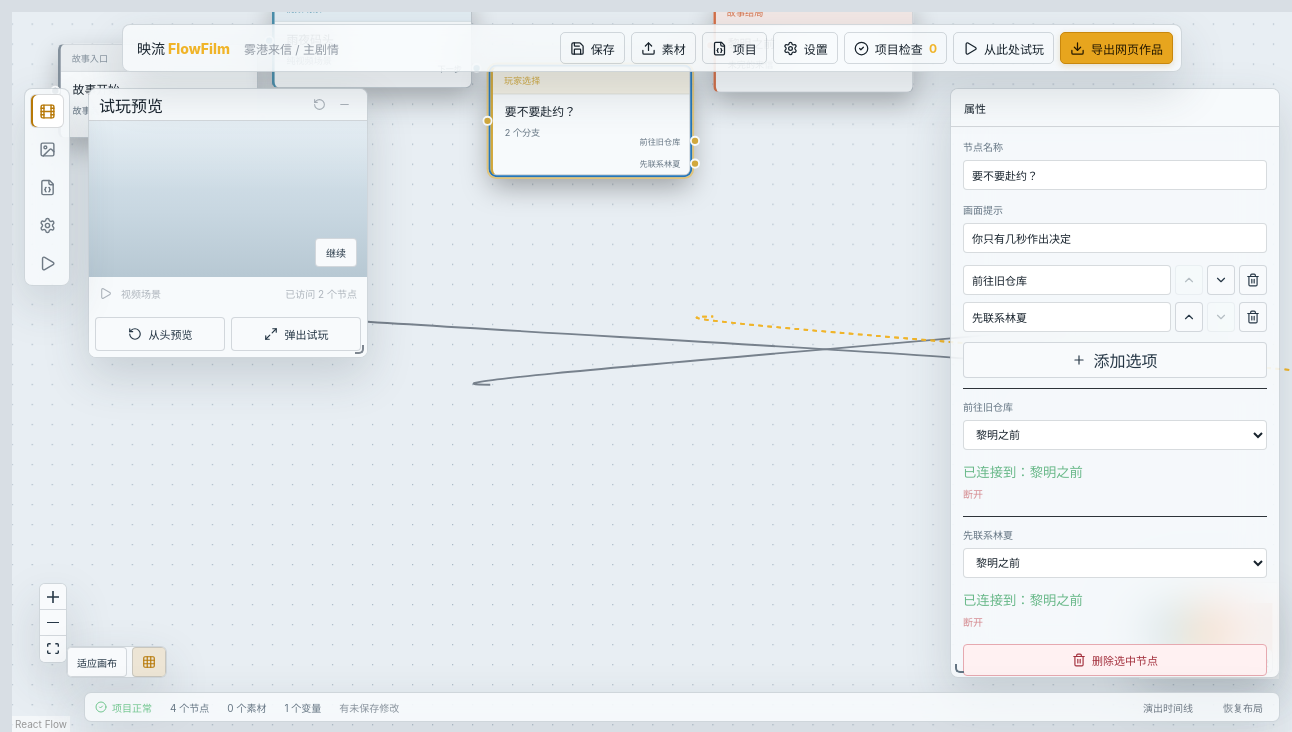
it: editor workbench › previews a branch choice
Click the button with aria-label "继续剧情". click: (336, 253)
box: [315, 238, 357, 267]
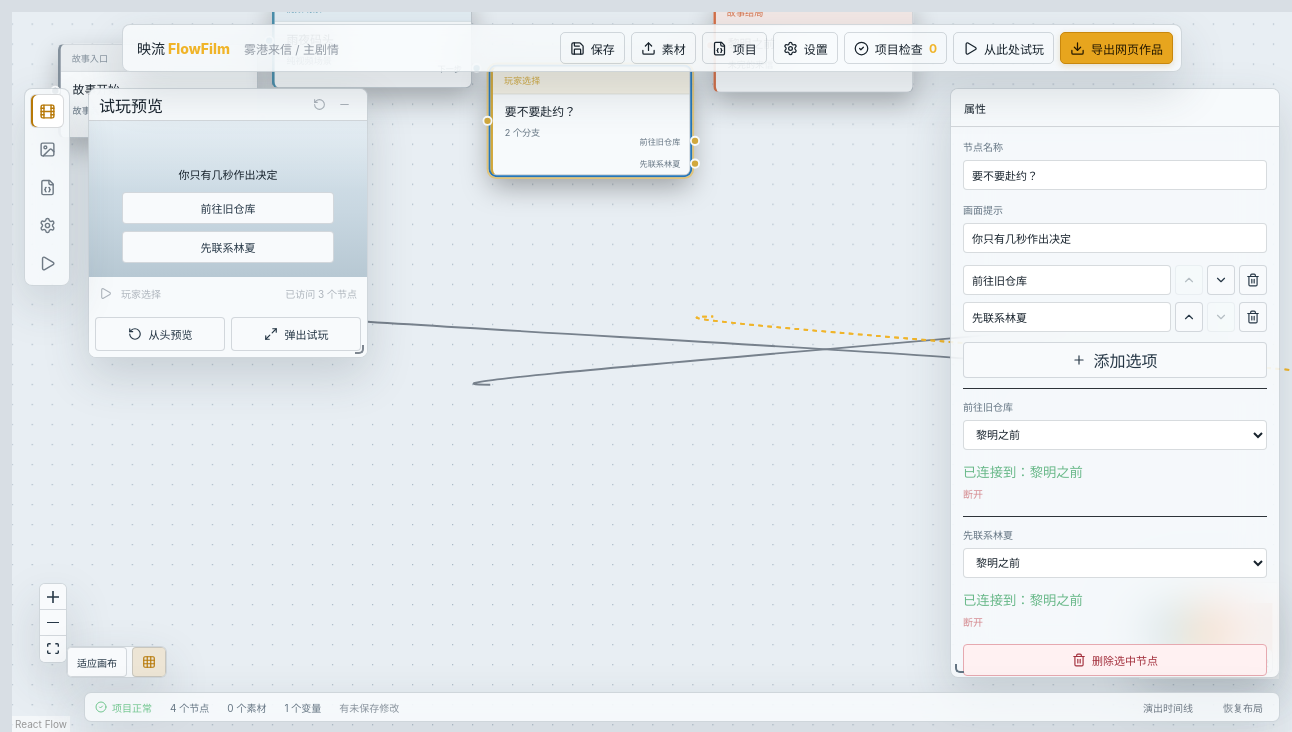
Click the button "前往旧仓库". click: (228, 208)
box: [122, 192, 334, 224]
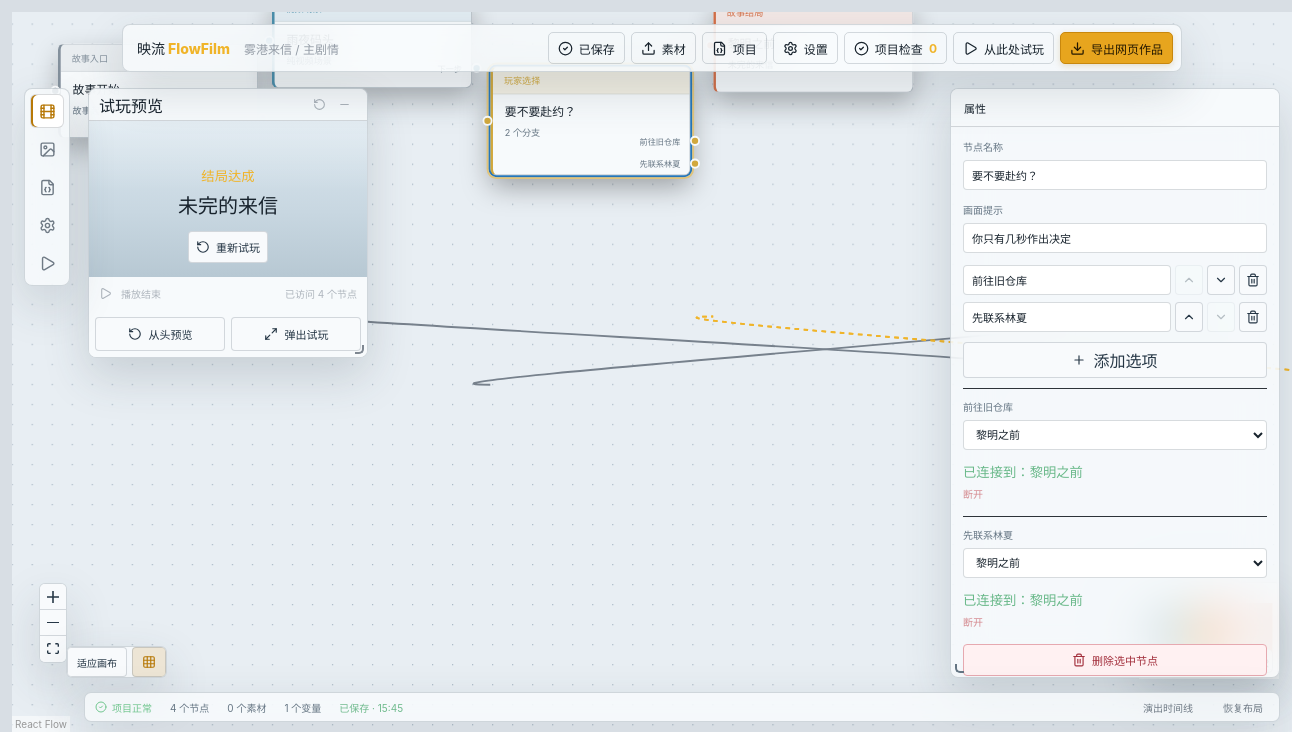
Expected: the heading "未完的来信" is shown, [178, 190, 278, 219]
